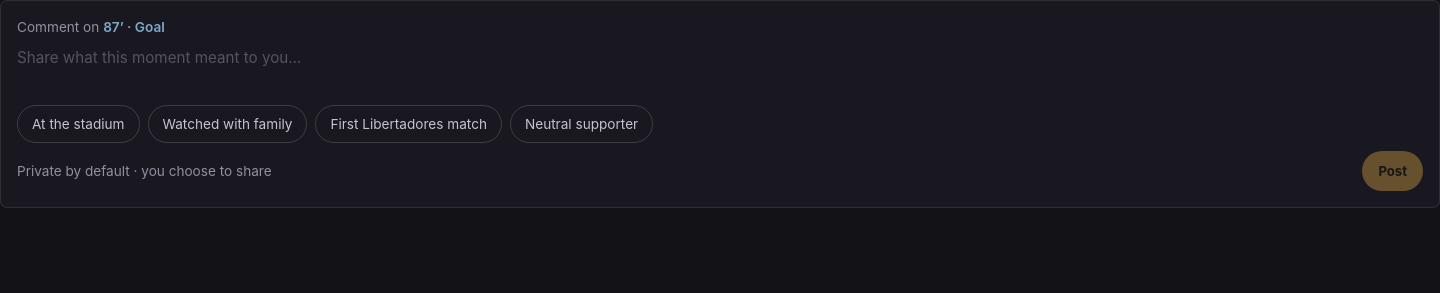
Test: CommentComposer — failure keeps the text in the editor › failed post preserves the note and retry publishes it
The width and height of the screenshot is (1440, 293).
Type "Never forgot this." into the text box with placeholder "Share what this moment meant to you…".
click(720, 69); type("Never forgot this.")  # box [17,47,1423,91]
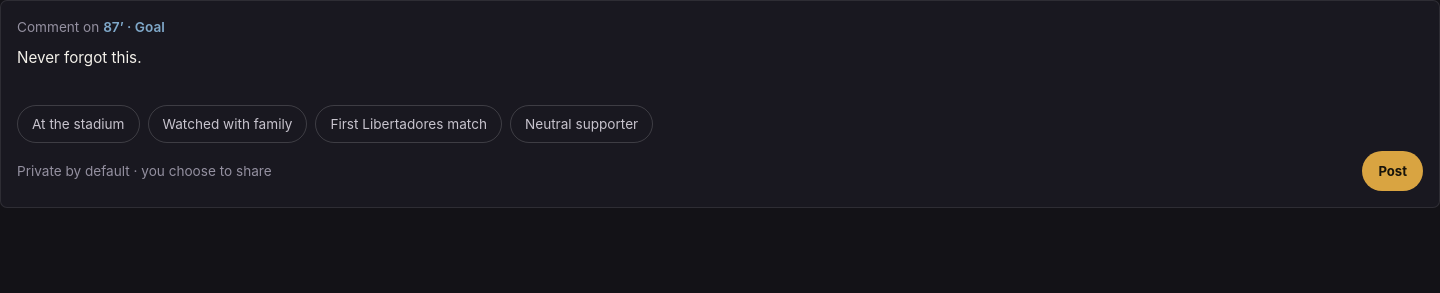
Click the button "Post".
click(1393, 171)  # box [1362,151,1423,191]
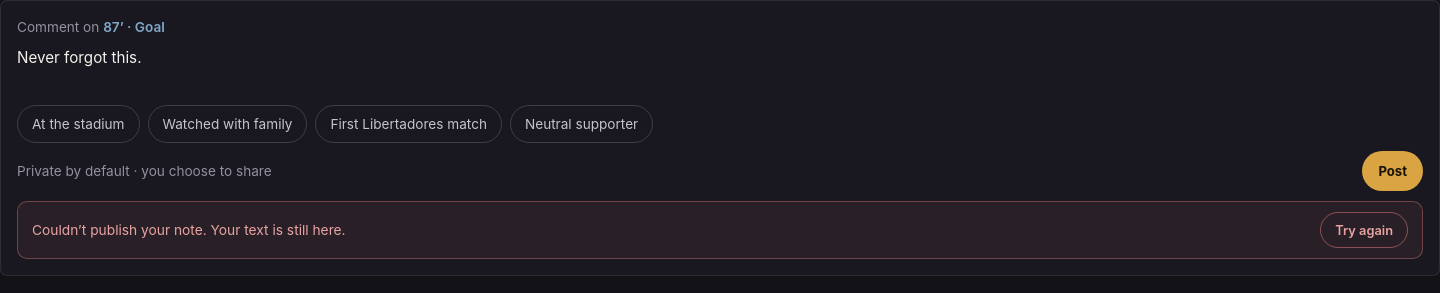
Expected: the message "Couldn’t publish your note. Your text is still here. Try again" is shown, [17,201,1423,259]
Click the button "Try again".
click(1364, 230)  # box [1320,212,1408,248]
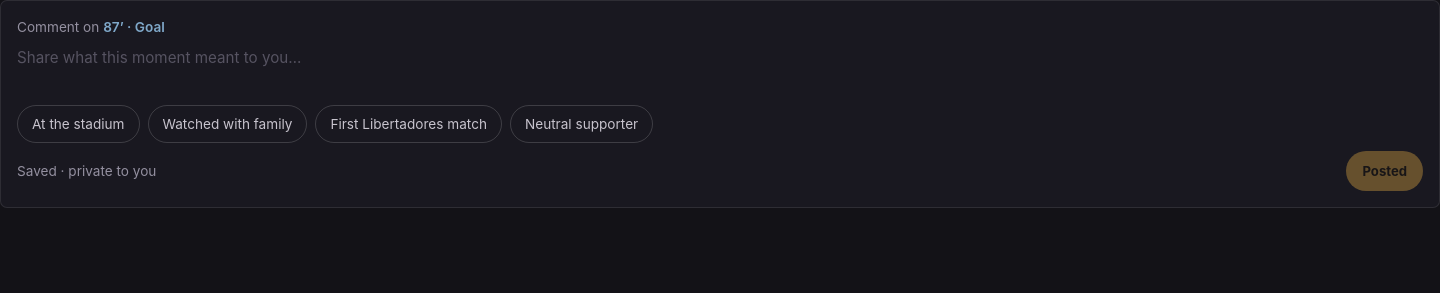
Expected: the button "Posted" is shown, [1346,151,1423,191]
Expected: the text box with placeholder "Share what this moment meant to you…" is empty, [17,47,1423,91]
